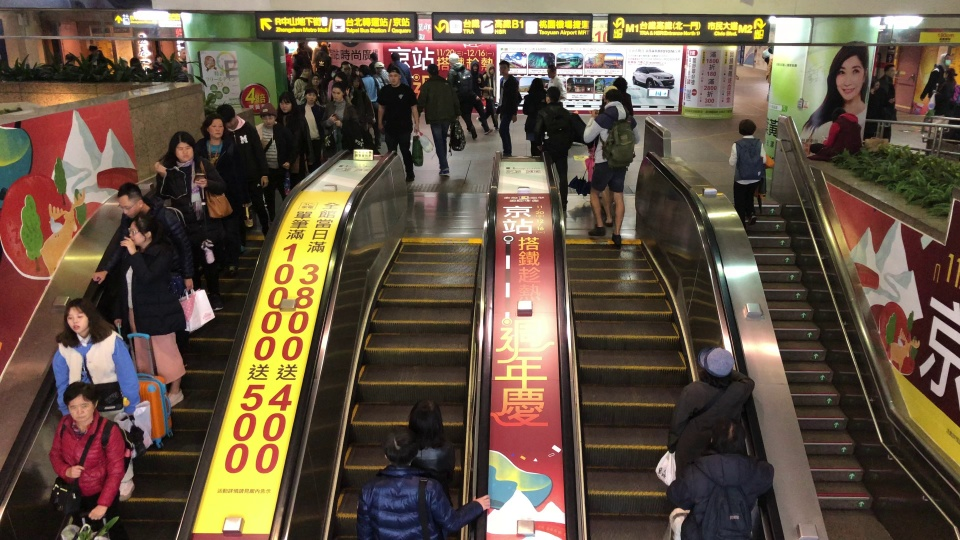person_head: (407, 399, 444, 448), (60, 379, 99, 423), (711, 416, 746, 455), (64, 298, 98, 338), (696, 346, 735, 380), (383, 430, 417, 467), (115, 182, 144, 218), (168, 131, 196, 164), (125, 218, 153, 249), (202, 112, 224, 142), (215, 103, 239, 130), (258, 102, 277, 126), (737, 118, 757, 136), (278, 92, 294, 114), (527, 77, 544, 95), (330, 82, 345, 102), (602, 85, 618, 103), (387, 66, 401, 85), (612, 76, 628, 91), (831, 108, 847, 123), (546, 86, 560, 103), (425, 64, 440, 79), (882, 63, 896, 79), (303, 89, 318, 103), (498, 59, 510, 76), (938, 52, 951, 66), (333, 71, 347, 83), (869, 76, 880, 91), (129, 56, 142, 68), (546, 65, 557, 79), (358, 64, 370, 76), (943, 67, 955, 79), (449, 53, 460, 66), (469, 60, 480, 73), (485, 63, 496, 76), (64, 53, 75, 65), (116, 57, 128, 68), (310, 74, 321, 86), (301, 65, 312, 76), (389, 52, 400, 63), (374, 61, 384, 72), (368, 52, 378, 62), (600, 95, 612, 103), (88, 44, 98, 53), (154, 54, 164, 63), (178, 48, 186, 59), (352, 76, 360, 86), (320, 44, 328, 52), (283, 45, 290, 54), (298, 42, 305, 50), (316, 40, 321, 45)
person_vbox: (53, 297, 142, 502), (356, 433, 491, 540), (155, 131, 229, 325), (113, 217, 185, 406), (669, 416, 774, 540), (667, 346, 755, 476), (45, 379, 125, 521), (92, 182, 192, 294), (583, 85, 640, 246), (194, 111, 239, 310), (215, 102, 271, 250), (727, 118, 775, 230), (407, 397, 455, 506), (254, 102, 297, 221), (417, 63, 460, 178), (379, 66, 420, 182), (586, 94, 615, 226), (542, 86, 572, 210), (276, 91, 311, 187), (808, 107, 863, 161), (322, 82, 360, 157), (495, 59, 522, 157), (447, 52, 477, 138), (351, 75, 381, 154), (300, 89, 328, 173), (918, 51, 952, 114), (466, 60, 493, 138), (521, 76, 547, 157), (358, 64, 382, 148), (476, 63, 500, 131), (880, 61, 898, 143), (933, 67, 956, 117), (864, 75, 881, 141), (612, 76, 635, 119), (388, 51, 413, 88), (545, 64, 567, 103), (332, 71, 354, 108), (85, 43, 109, 71), (309, 73, 328, 108), (293, 65, 310, 104), (292, 42, 311, 74), (316, 43, 333, 78), (310, 38, 323, 74), (282, 44, 293, 86), (373, 61, 389, 88), (367, 52, 385, 75), (175, 47, 189, 72), (128, 56, 145, 74), (152, 53, 165, 74)
